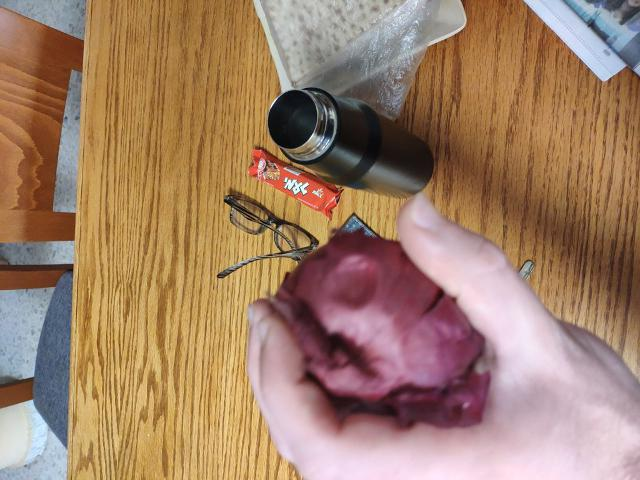onion: (281, 261, 442, 389)
